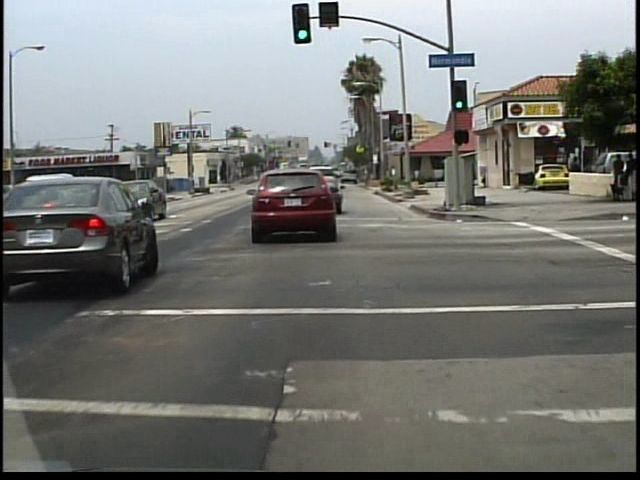person: (567, 154, 584, 196)
